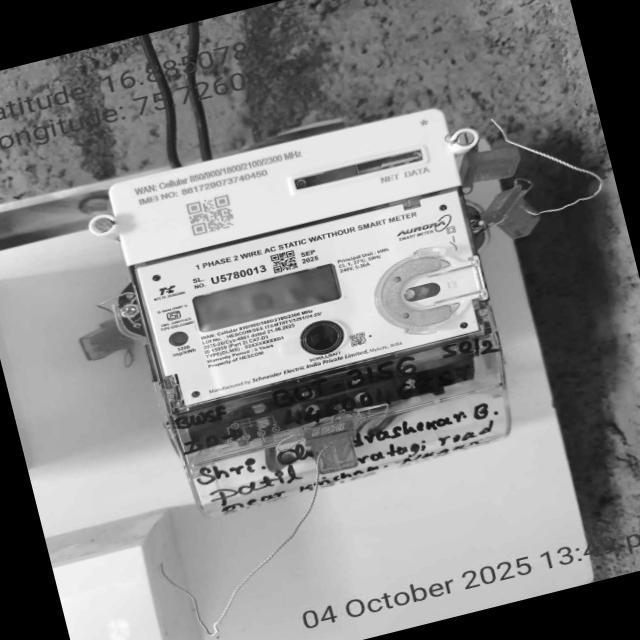meter: (103, 101, 504, 412)
